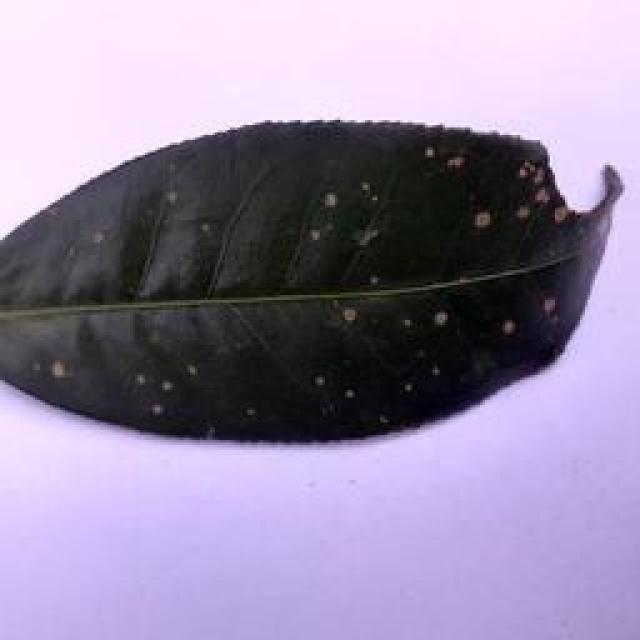Algal Leaf Spot: (6, 112, 620, 447)
